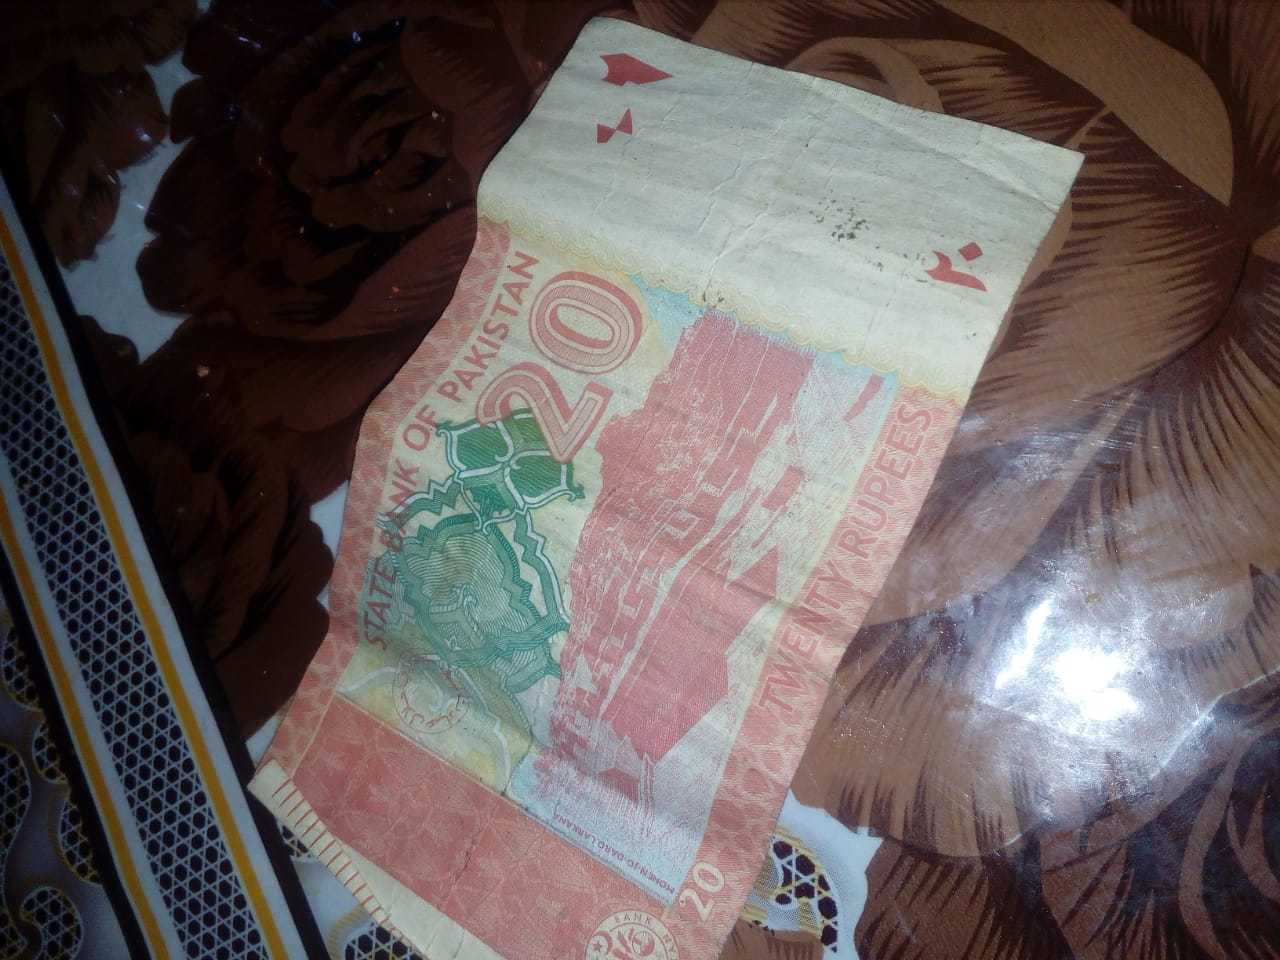20 rupee: (176, 27, 1075, 960)
